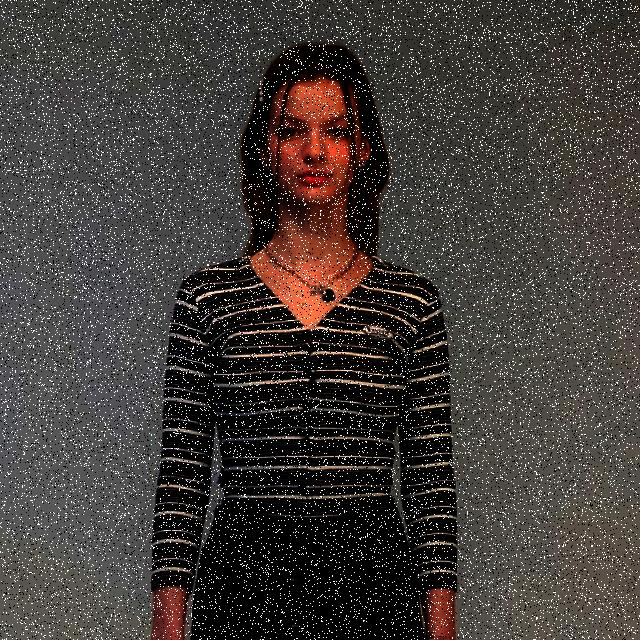Blouse_deep: (149, 258, 462, 596)
